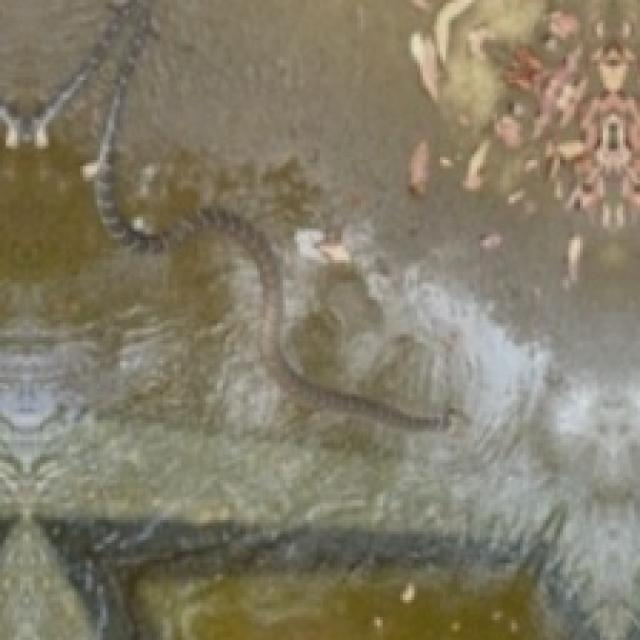king cobra: (83, 69, 460, 426)
